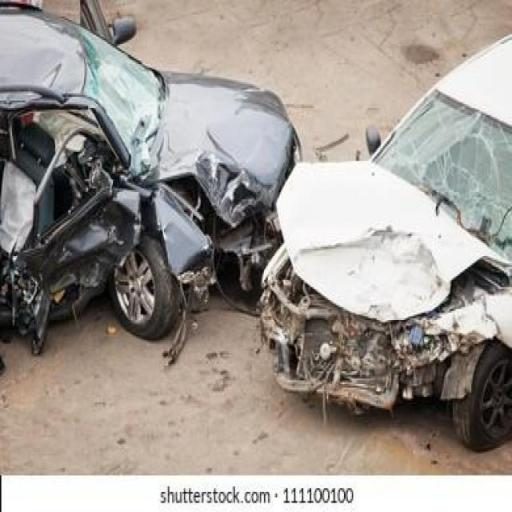小汽车撞小汽车: (14, 14, 510, 452)
